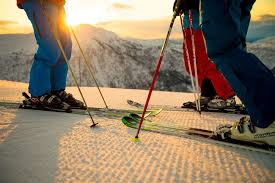skis: (122, 113, 275, 156), (1, 98, 162, 121), (124, 97, 251, 115)
